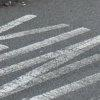Crosswalk: (9, 19, 95, 100)
